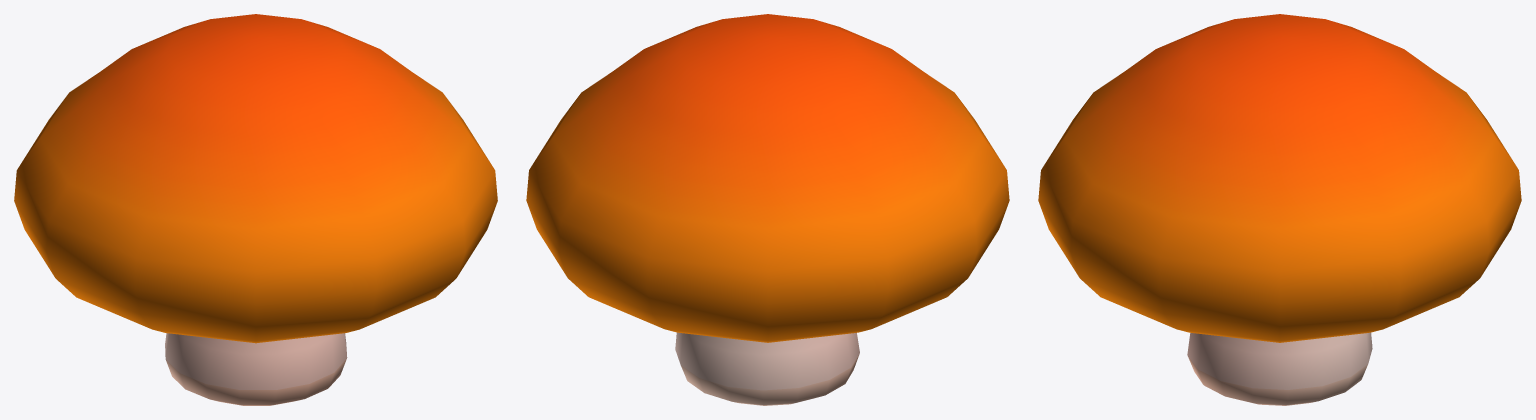
The model's file is Mashroom_V1_00.fbx.
The picture shows the model from 3 angles, left to right: view 1: azimuth 30°, elevation 25°; view 2: azimuth 150°, elevation 25°; view 3: azimuth 270°, elevation 25°; orthographic projection.
Visible parts, largest first — view 1: Mashroom_V1_00; view 2: Mashroom_V1_00; view 3: Mashroom_V1_00.
Boxes of the visible parts, x1,y1,x2,y2 form: Mashroom_V1_00: (14, 14, 497, 405); Mashroom_V1_00: (526, 14, 1009, 405); Mashroom_V1_00: (1038, 14, 1521, 405).
Size of the model in its own units: 36.75 by 28.45 by 36.75.
